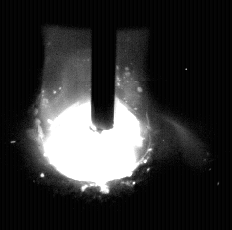arame: (92, 0, 115, 134)
poca: (41, 0, 150, 230)
